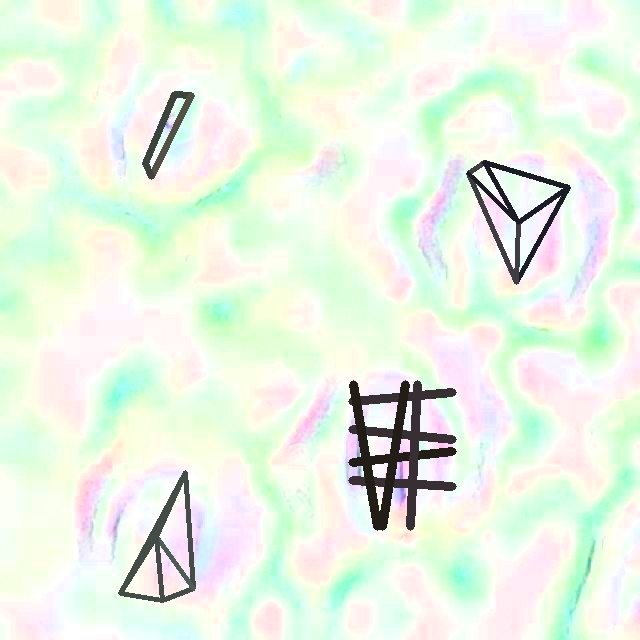close: (348, 380, 456, 530), (467, 161, 570, 284), (118, 470, 195, 602), (142, 91, 194, 179)
